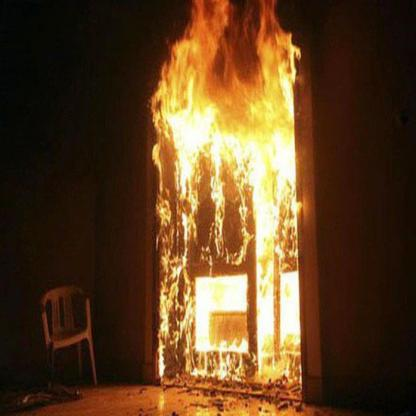fire: (153, 0, 305, 400)
